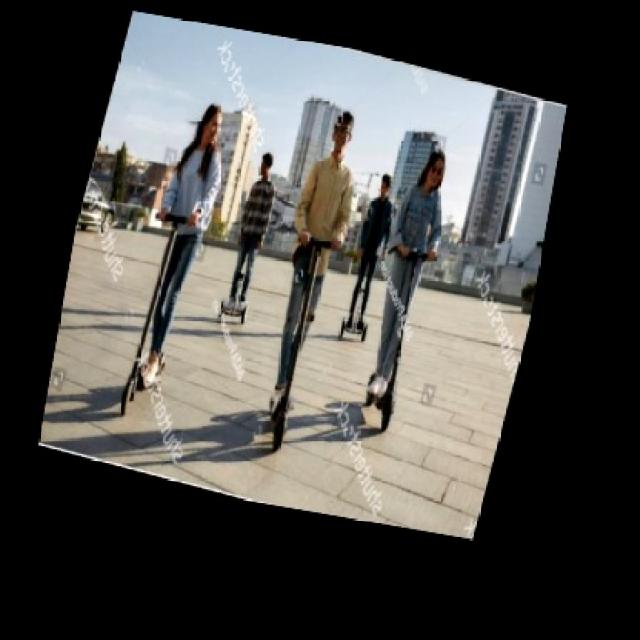bare_head: (175, 99, 242, 148)
human: (128, 78, 244, 382)
kickboard: (111, 351, 178, 422)
